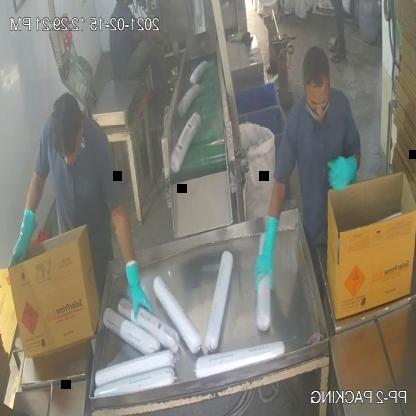glove: (251, 193, 291, 304), (322, 138, 368, 201), (121, 240, 154, 327), (8, 192, 38, 275)
no_glove: (136, 22, 174, 55)
